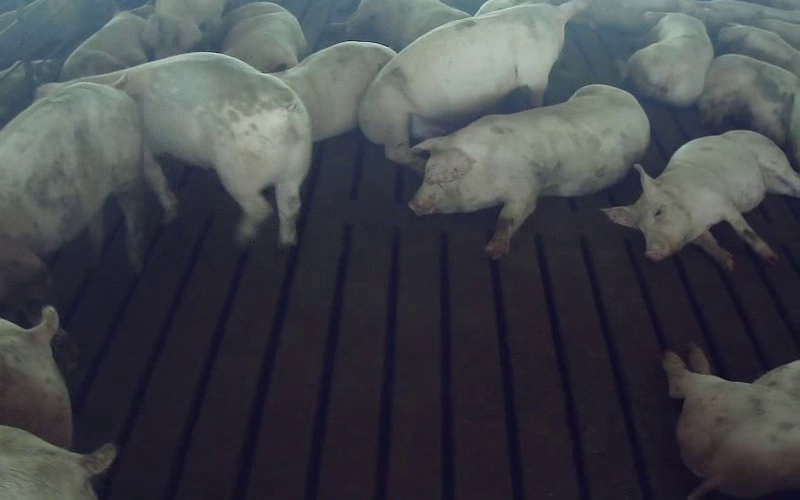pig: (91, 52, 311, 243), (409, 85, 648, 258), (359, 4, 586, 168), (603, 130, 799, 270), (272, 42, 395, 141), (698, 54, 799, 170), (627, 13, 713, 106), (221, 2, 306, 72)
